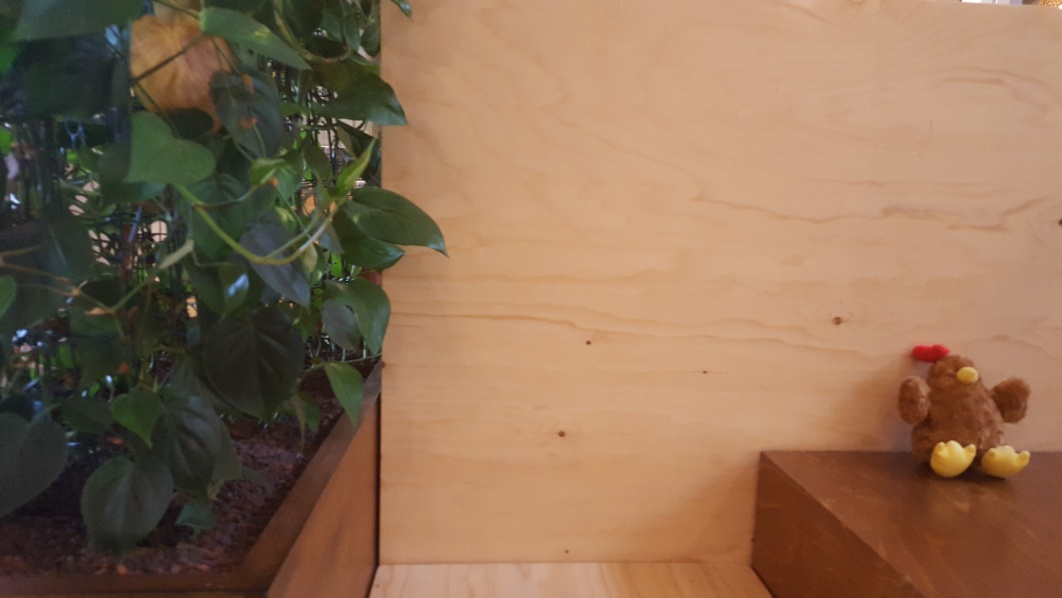chicken: (900, 338, 1035, 481)
